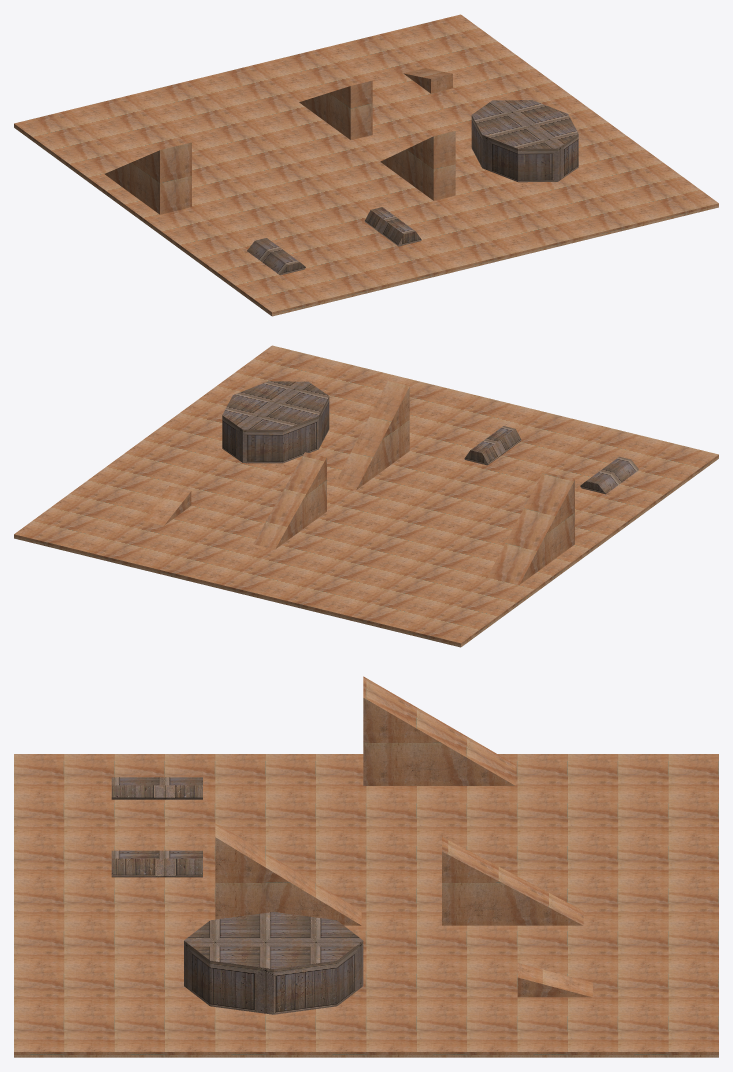
Rendered from leadwerkTest.fbx.
3 views of the same model, one above another, from view 1: azimuth 30°, elevation 25°; view 2: azimuth 150°, elevation 25°; view 3: azimuth 270°, elevation 25° (orthographic). The views are drawn at different scales.
Parts seen in each view (by area): view 1: Box, Cylinder.002, Wedge.003, Wedge.002, Wedge, Cylinder, Cylinder.001, Wedge.001; view 2: Box, Cylinder.002, Wedge.003, Wedge.002, Wedge, Cylinder, Wedge.001, Cylinder.001; view 3: Box, Cylinder.002, Wedge.003, Wedge.002, Wedge, Cylinder, Cylinder.001, Wedge.001.
Part boxes in pixels (x1,y1,x2,y2): Box: (14, 14, 718, 316); Cylinder.002: (471, 100, 578, 182); Wedge.003: (105, 142, 191, 214); Wedge.002: (380, 131, 455, 200); Wedge: (299, 80, 372, 139); Cylinder: (364, 207, 421, 246); Cylinder.001: (247, 238, 305, 275); Wedge.001: (403, 68, 452, 93); Box: (14, 345, 718, 647); Cylinder.002: (222, 381, 329, 463); Wedge.003: (487, 471, 574, 584); Wedge.002: (334, 381, 409, 489); Wedge: (253, 452, 326, 549); Cylinder: (464, 426, 521, 465); Wedge.001: (142, 485, 191, 525); Cylinder.001: (580, 456, 638, 494); Box: (14, 754, 718, 1057); Cylinder.002: (184, 912, 363, 1014); Wedge.003: (363, 676, 515, 785); Wedge.002: (215, 823, 361, 925); Wedge: (442, 837, 583, 925); Cylinder: (111, 850, 202, 877); Cylinder.001: (111, 777, 202, 799); Wedge.001: (517, 963, 592, 997).
Bounding box in the file's own units: 3584 × 3584 × 564.
3 materials, 3 textured.
